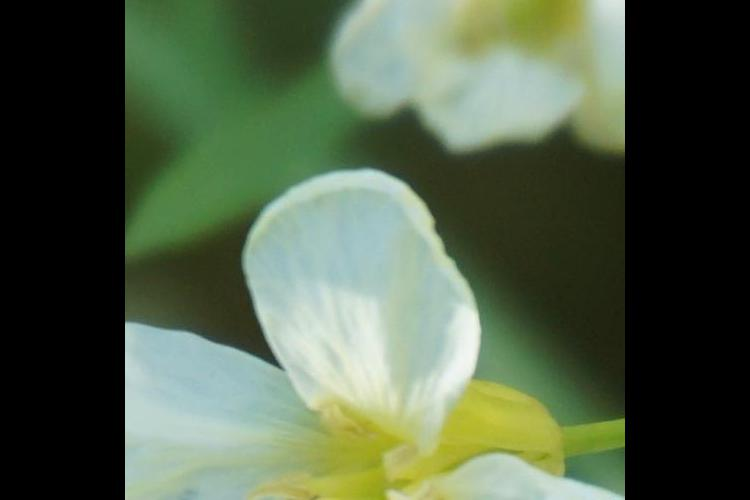white: (129, 170, 625, 500), (334, 1, 620, 166)
